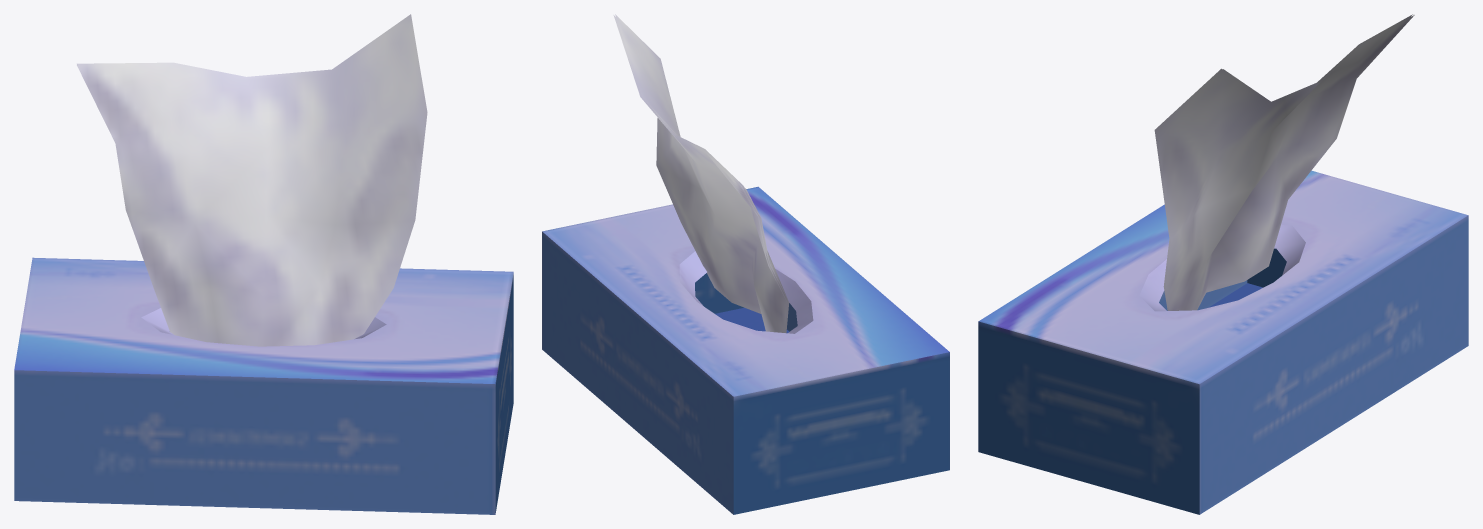
The model's file is CeSuo_01_zhijinhe_01.FBX.
The picture shows the model from 3 angles, left to right: view 1: azimuth 30°, elevation 25°; view 2: azimuth 150°, elevation 25°; view 3: azimuth 270°, elevation 25°; orthographic projection. The views are drawn at different scales.
Parts seen in each view (by area): view 1: CeSuo_01_zhijinhe_01; view 2: CeSuo_01_zhijinhe_01; view 3: CeSuo_01_zhijinhe_01.
Part boxes in pixels (x1=…): CeSuo_01_zhijinhe_01: x1=14, y1=14, x2=513, y2=514; CeSuo_01_zhijinhe_01: x1=542, y1=14, x2=949, y2=514; CeSuo_01_zhijinhe_01: x1=978, y1=14, x2=1468, y2=514.
Size of the model in its own units: 128 by 103 by 114.
